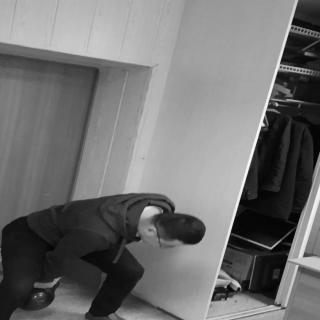kettlebell: (18, 280, 68, 312)
